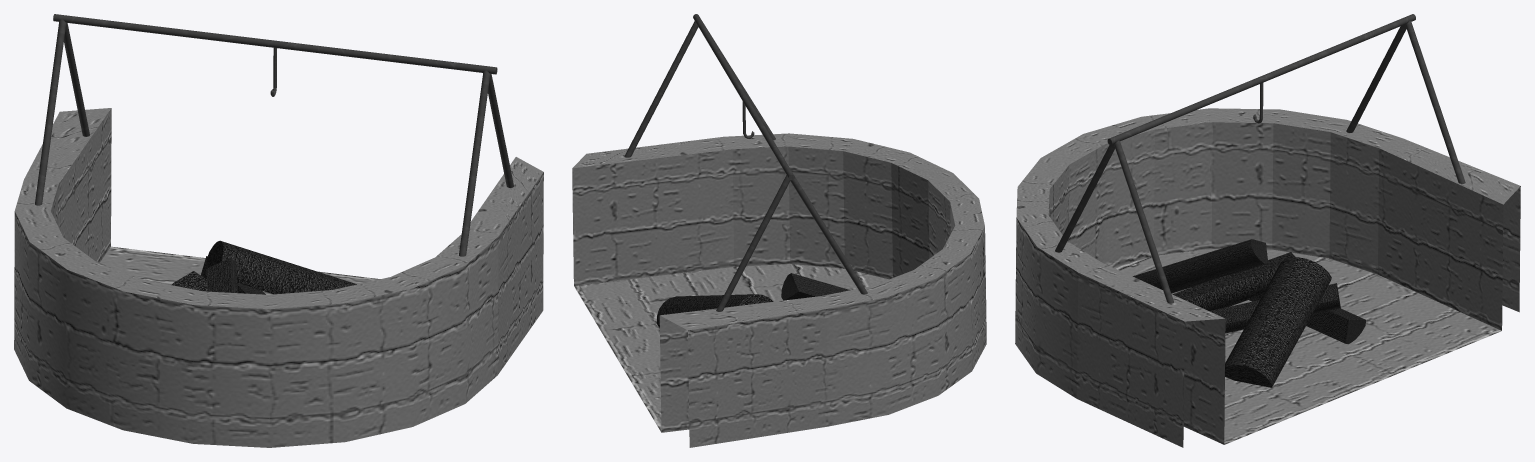
The model's file is Firepit.fbx.
3 renders of one model, left to right at view 1: azimuth 30°, elevation 25°; view 2: azimuth 150°, elevation 25°; view 3: azimuth 270°, elevation 25°, orthographic. The views are drawn at different scales.
Visible parts, largest first — view 1: Firepit:Pit, Firepit:Bars, Firepit:FireWood; view 2: Firepit:Pit, Firepit:Bars, Firepit:FireWood; view 3: Firepit:Pit, Firepit:FireWood, Firepit:Bars.
Part boxes in pixels (x1,y1,x2,y2): Firepit:Pit: (14, 108, 543, 447); Firepit:Bars: (35, 14, 513, 256); Firepit:FireWood: (171, 240, 356, 294); Firepit:Pit: (572, 133, 986, 447); Firepit:Bars: (624, 14, 867, 311); Firepit:FireWood: (656, 273, 850, 327); Firepit:Pit: (1015, 108, 1520, 447); Firepit:FireWood: (1133, 239, 1365, 387); Firepit:Bars: (1055, 14, 1465, 303).
Size of the model in its own units: 2.45 by 1.5 by 2.51.
